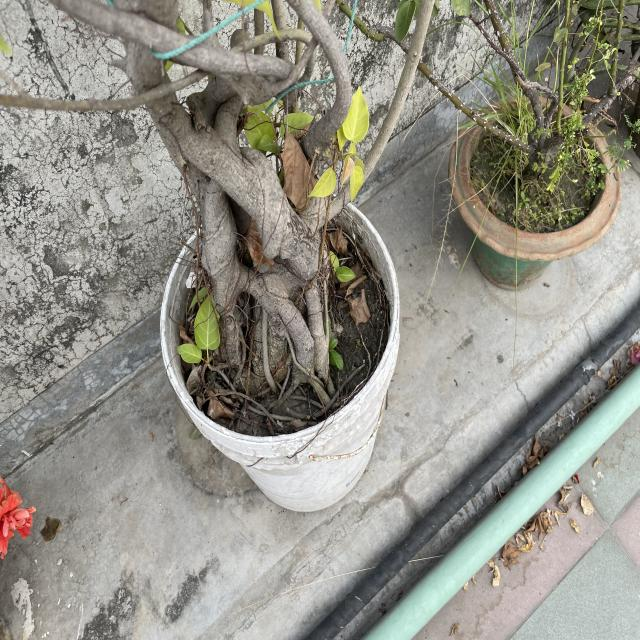Breeding Place: (160, 212, 398, 504), (457, 92, 618, 283)
